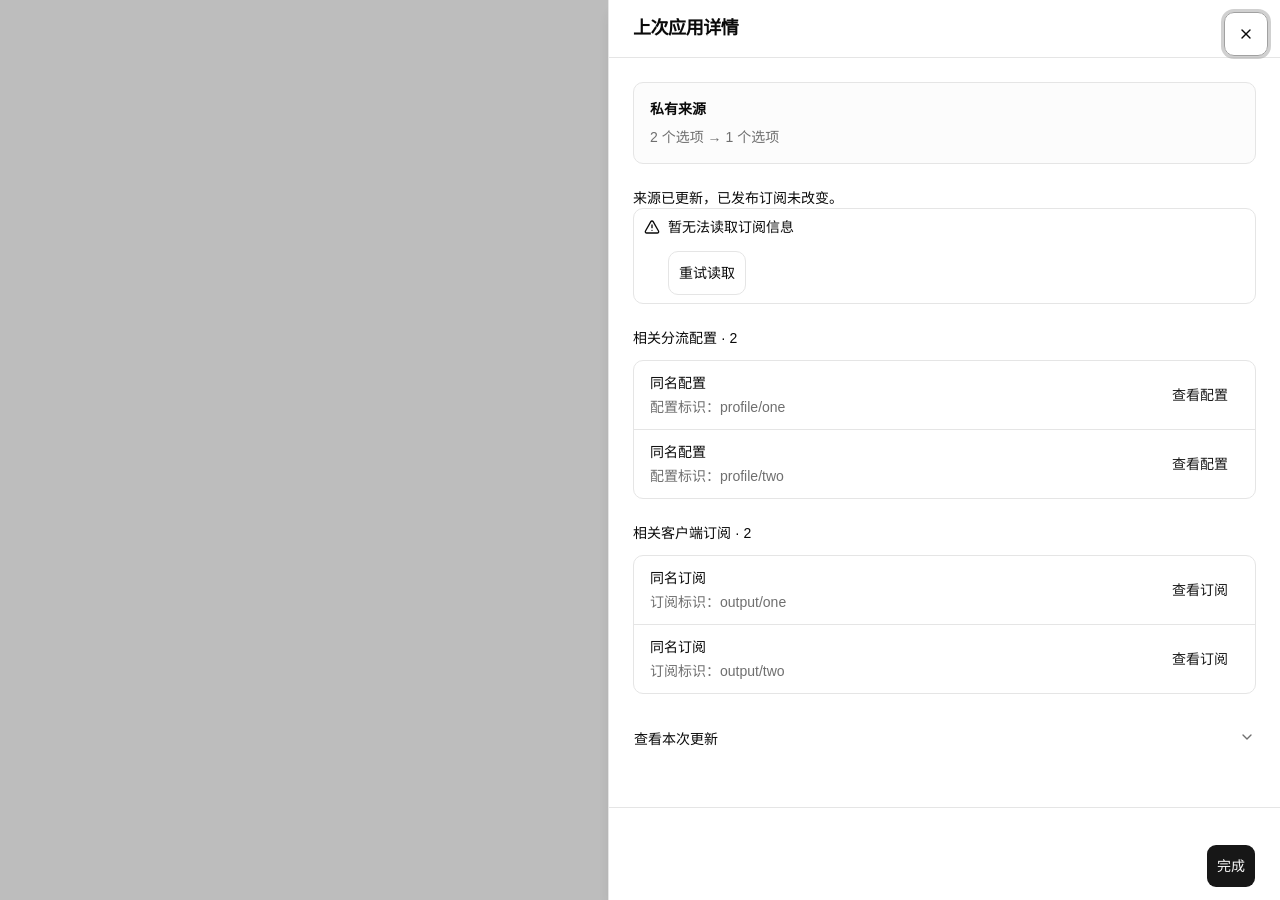
Scenario: falls back to visible exact identities on metadata error and retries only the metadata read
The image size is (1280, 900).
Expected: the text "暂无法读取订阅信息" is shown, x1=668 y1=219 x2=794 y2=235
Expected: the text "配置标识：profile/one" is shown, x1=650 y1=397 x2=785 y2=417
Click the button "重试读取": (707, 273) x1=668 y1=251 x2=746 y2=295
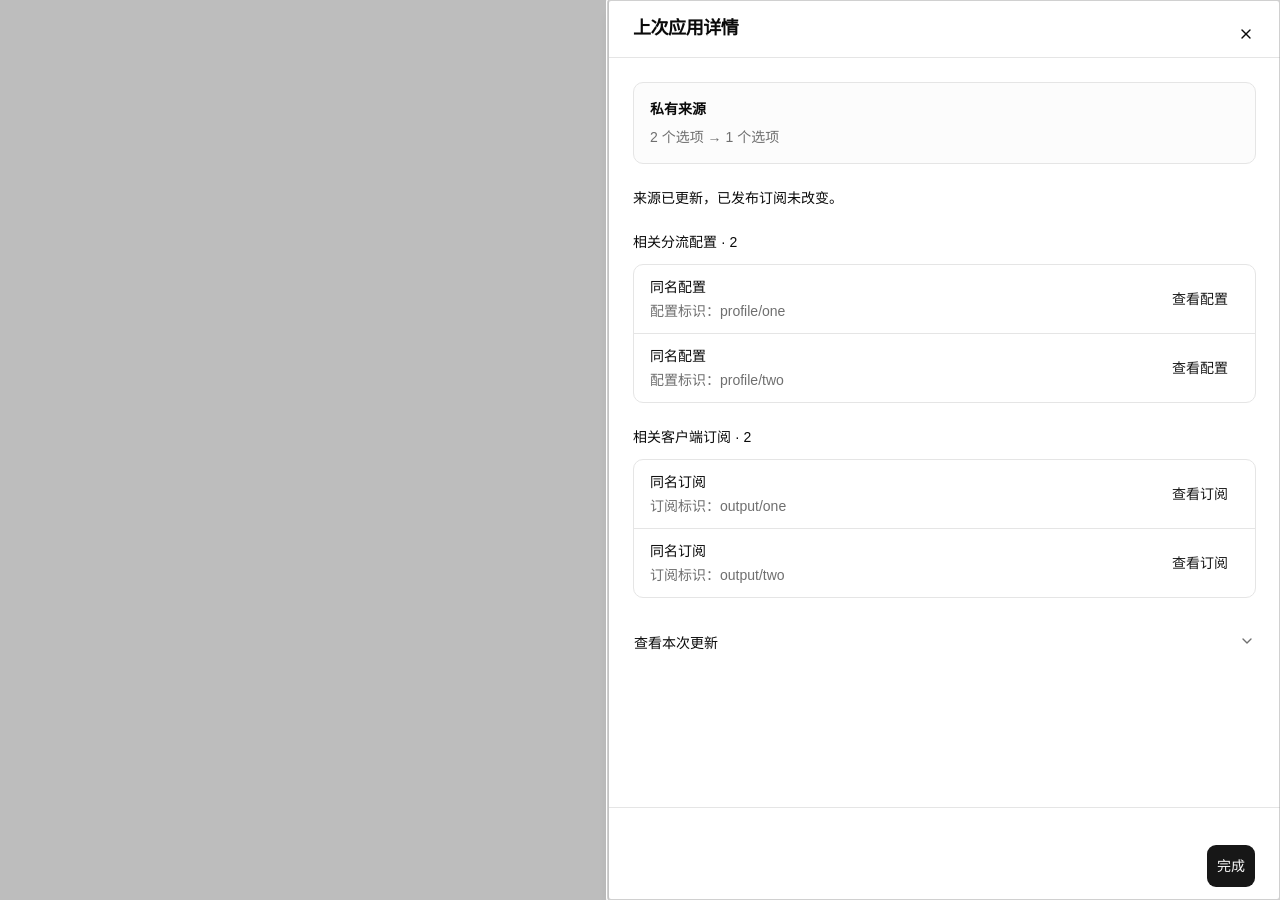
Expected: the text "配置标识：profile/one" is shown, x1=650 y1=301 x2=785 y2=321
Now the text "暂无法读取订阅信息" is gone
